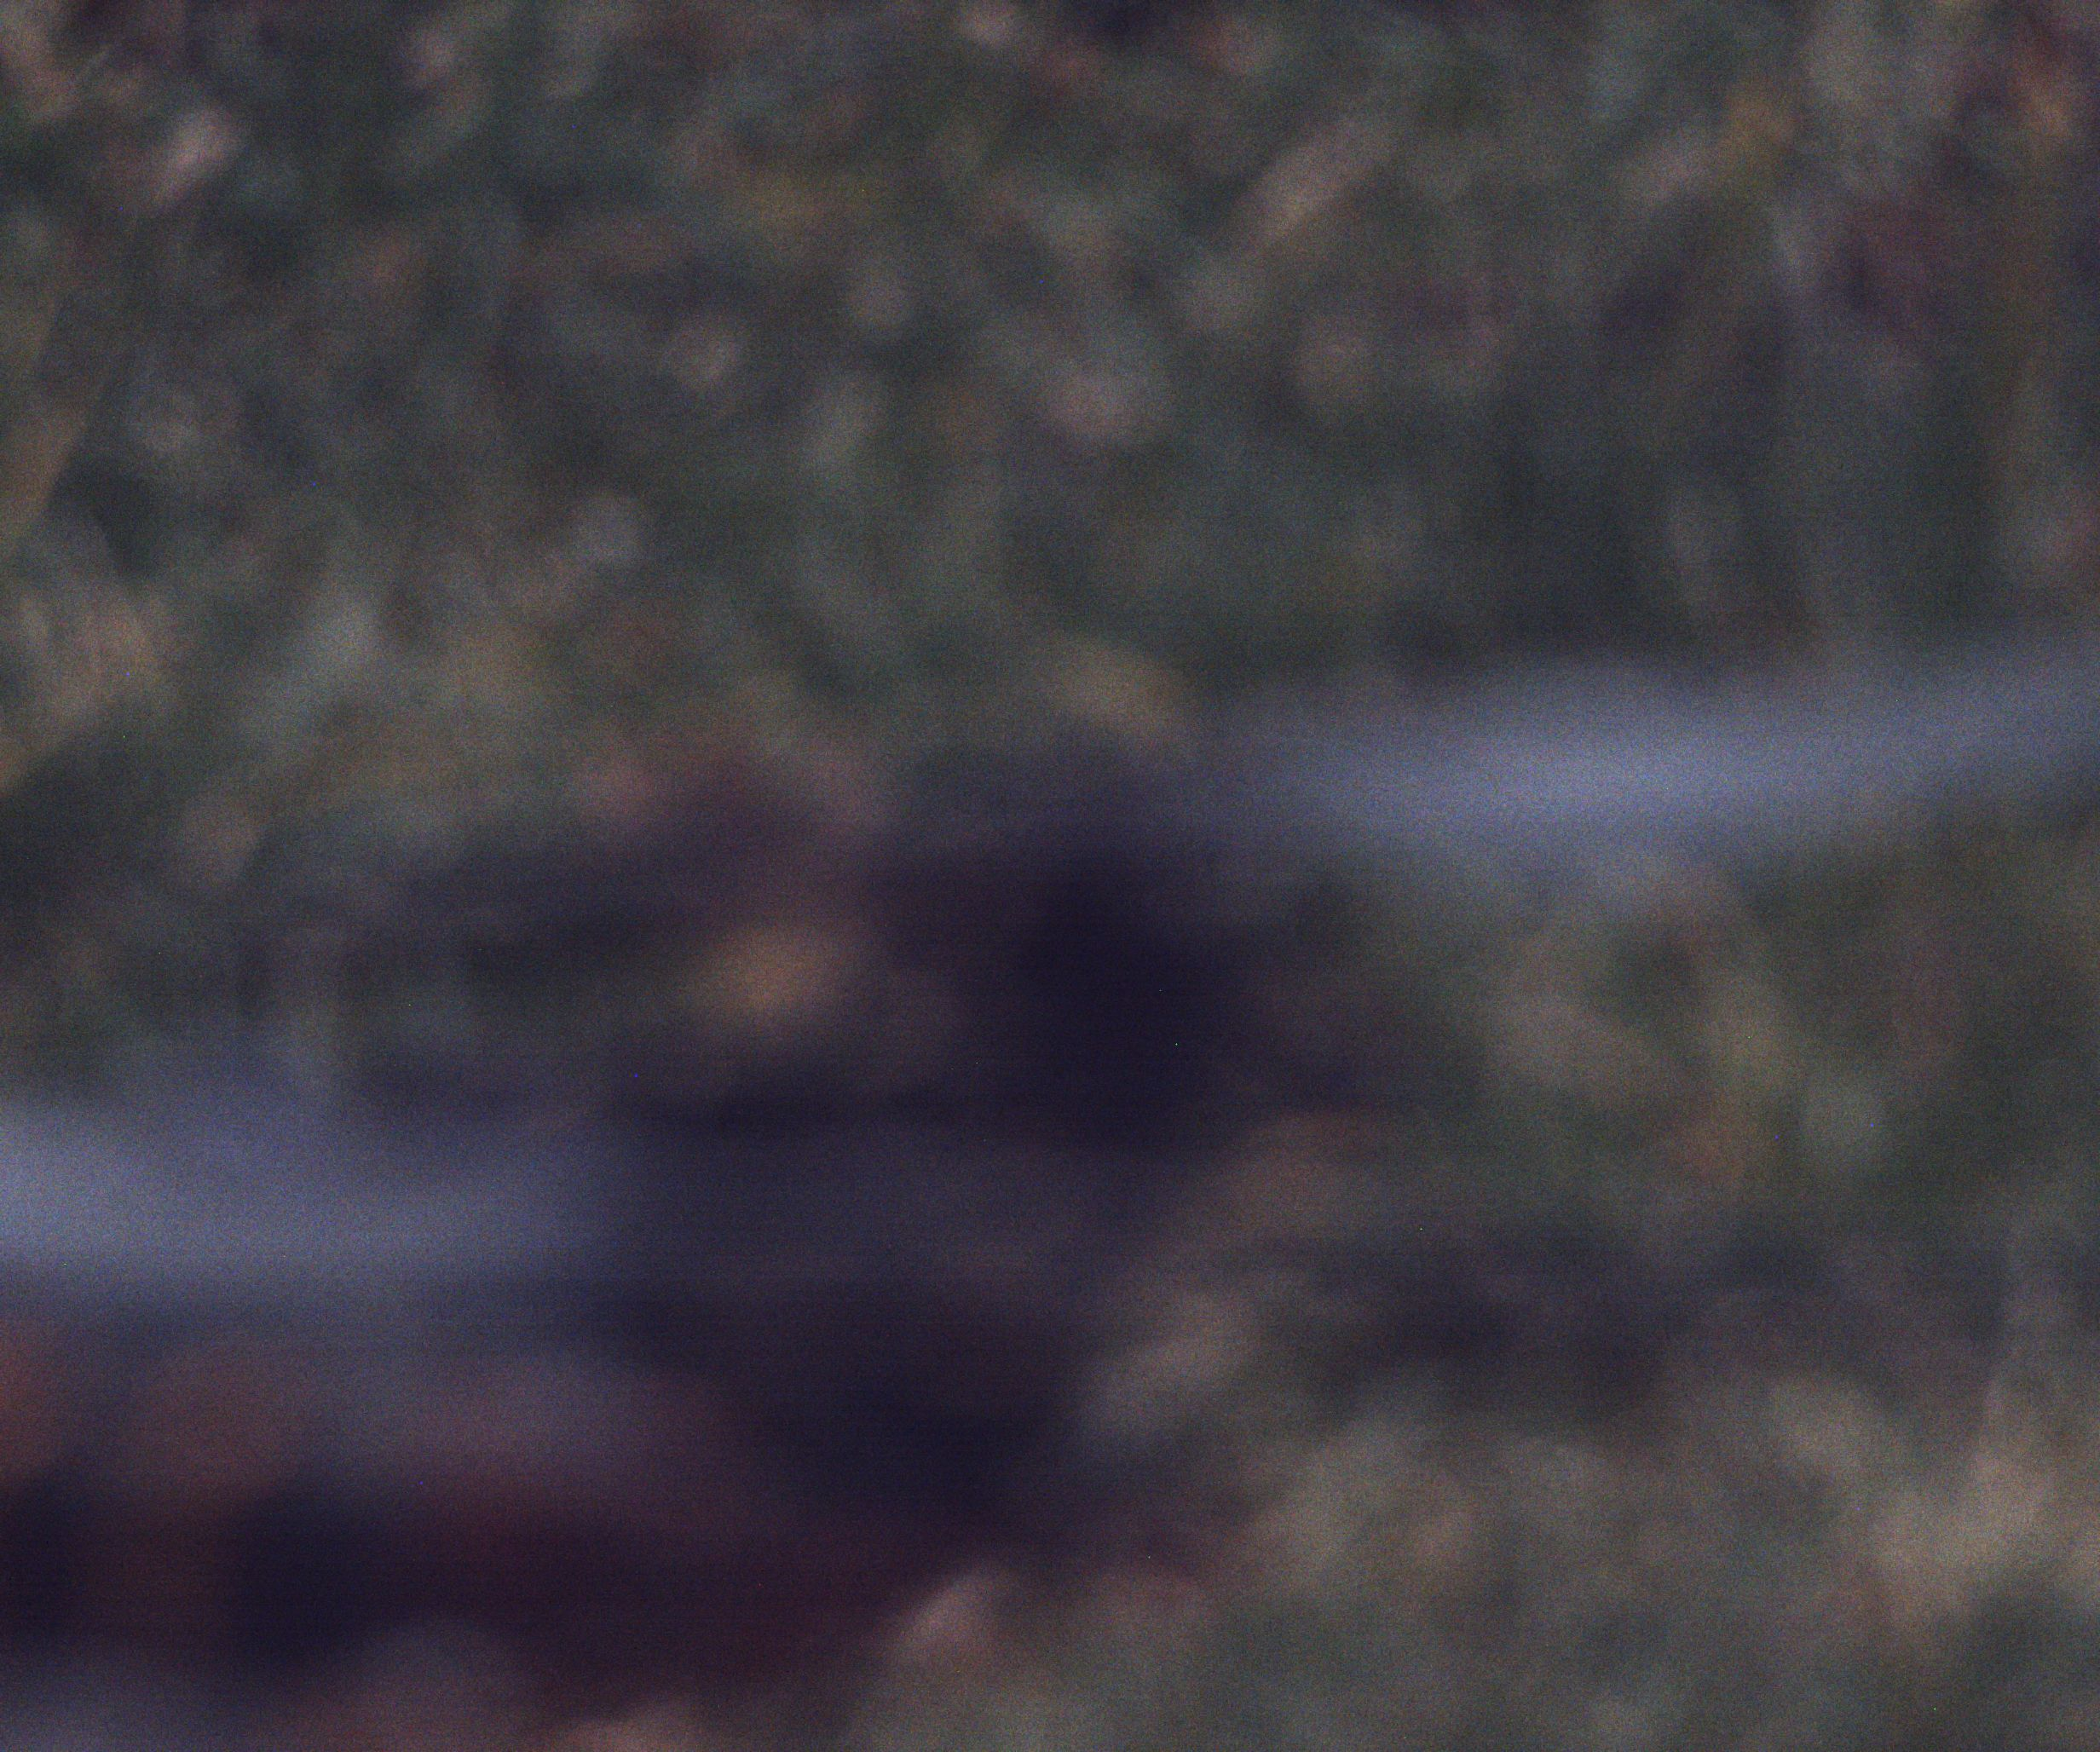Drohne: (56, 689, 2100, 1728)
